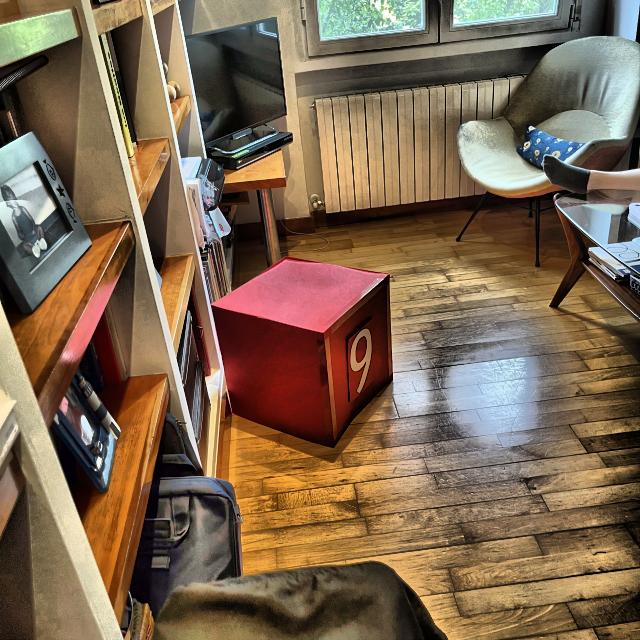nine: (350, 328, 373, 395)
red box: (213, 259, 394, 448)
